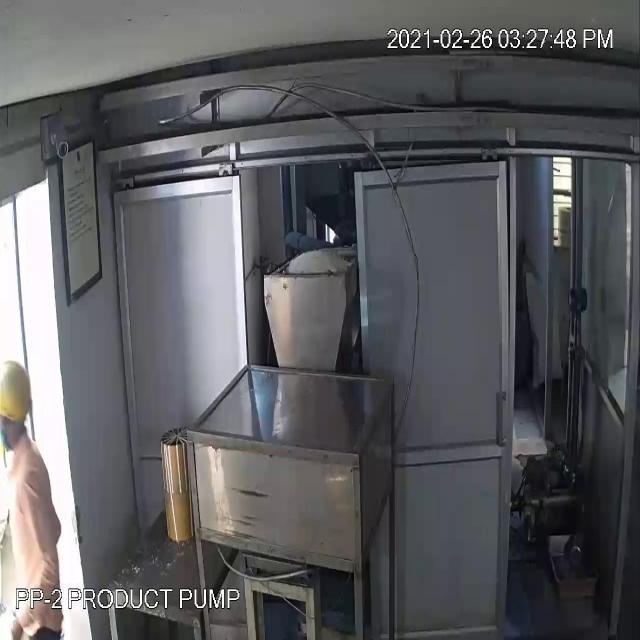hat: (1, 355, 39, 426)
